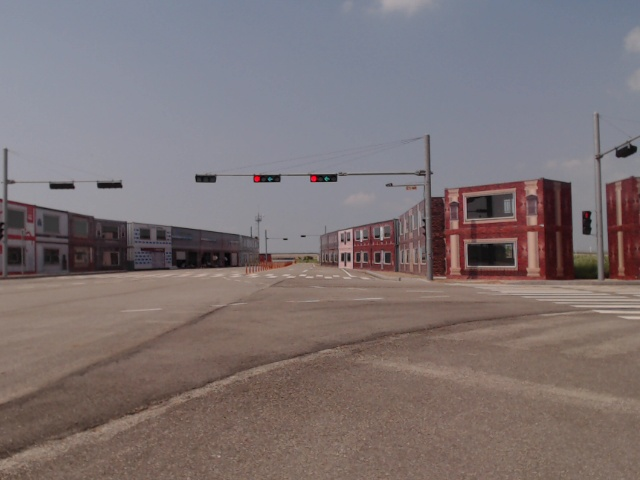left_green_4: (310, 175, 337, 182), (254, 176, 280, 183)
